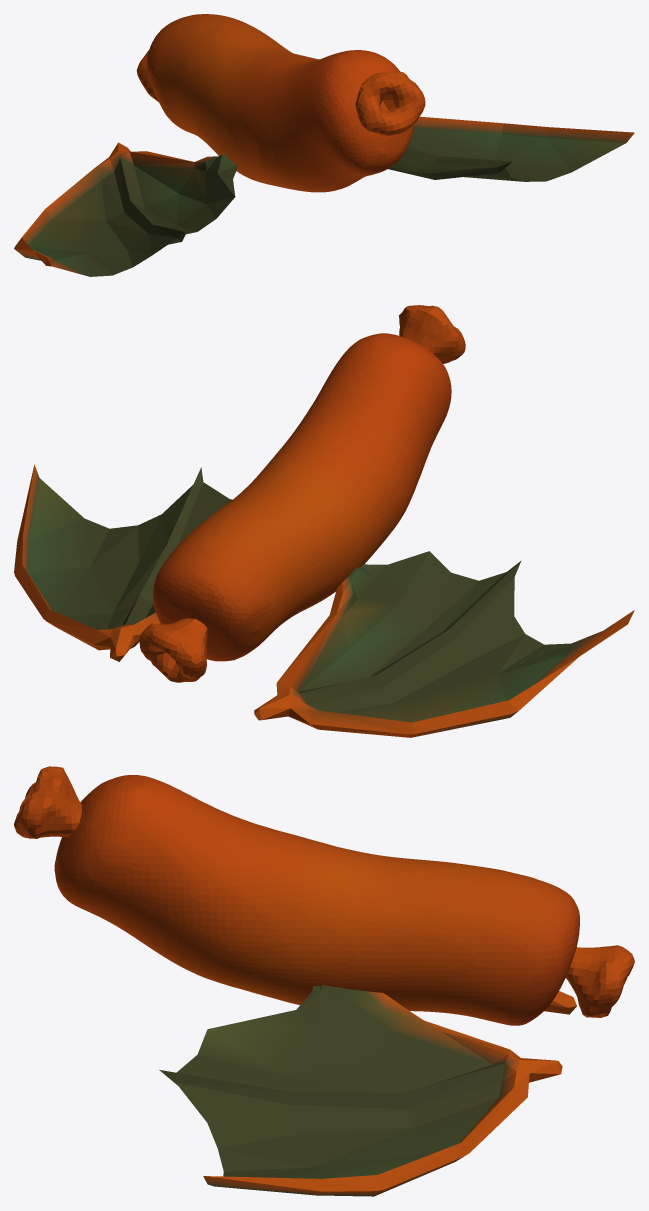
The model's file is chorizardCORREGIDO.fbx.
The picture shows the model from 3 angles, top to bottom: view 1: azimuth 30°, elevation 25°; view 2: azimuth 150°, elevation 25°; view 3: azimuth 270°, elevation 25°; orthographic projection. The views are drawn at different scales.
Visible parts, largest first — view 1: Alas; view 2: Alas; view 3: Alas.
Part boxes in pixels (x1,y1,x2,y2): Alas: (14, 14, 634, 276); Alas: (14, 305, 634, 737); Alas: (14, 766, 634, 1196).
Bounding box in the file's own units: 60.98 × 24.48 × 46.38.
